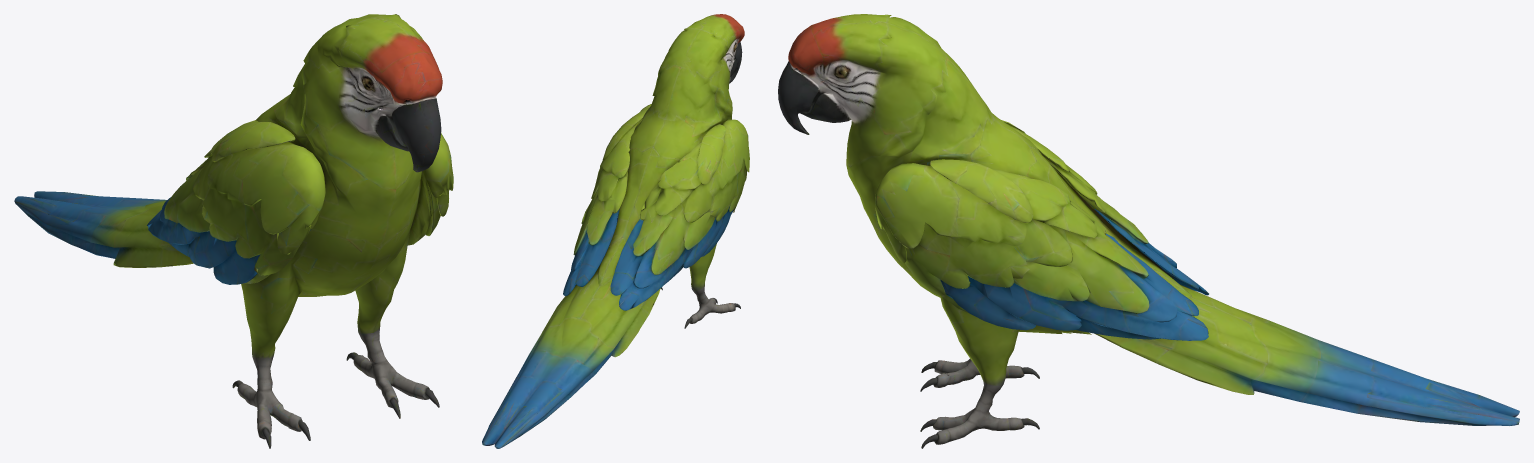
The model's file is macaw-abiru.glb.
3 views of the same model, side by side, from view 1: azimuth 30°, elevation 25°; view 2: azimuth 150°, elevation 25°; view 3: azimuth 270°, elevation 25° (orthographic). The views are drawn at different scales.
Parts seen in each view (by area): view 1: geometry_0; view 2: geometry_0; view 3: geometry_0.
Boxes of the visible parts, x1,y1,x2,y2 form: geometry_0: (14,14,453,448); geometry_0: (482,14,749,448); geometry_0: (778,14,1519,448).
Size of the model in its own units: 0.269 by 0.5689 by 0.9551.
Materials: 1 (1 with a texture image).
